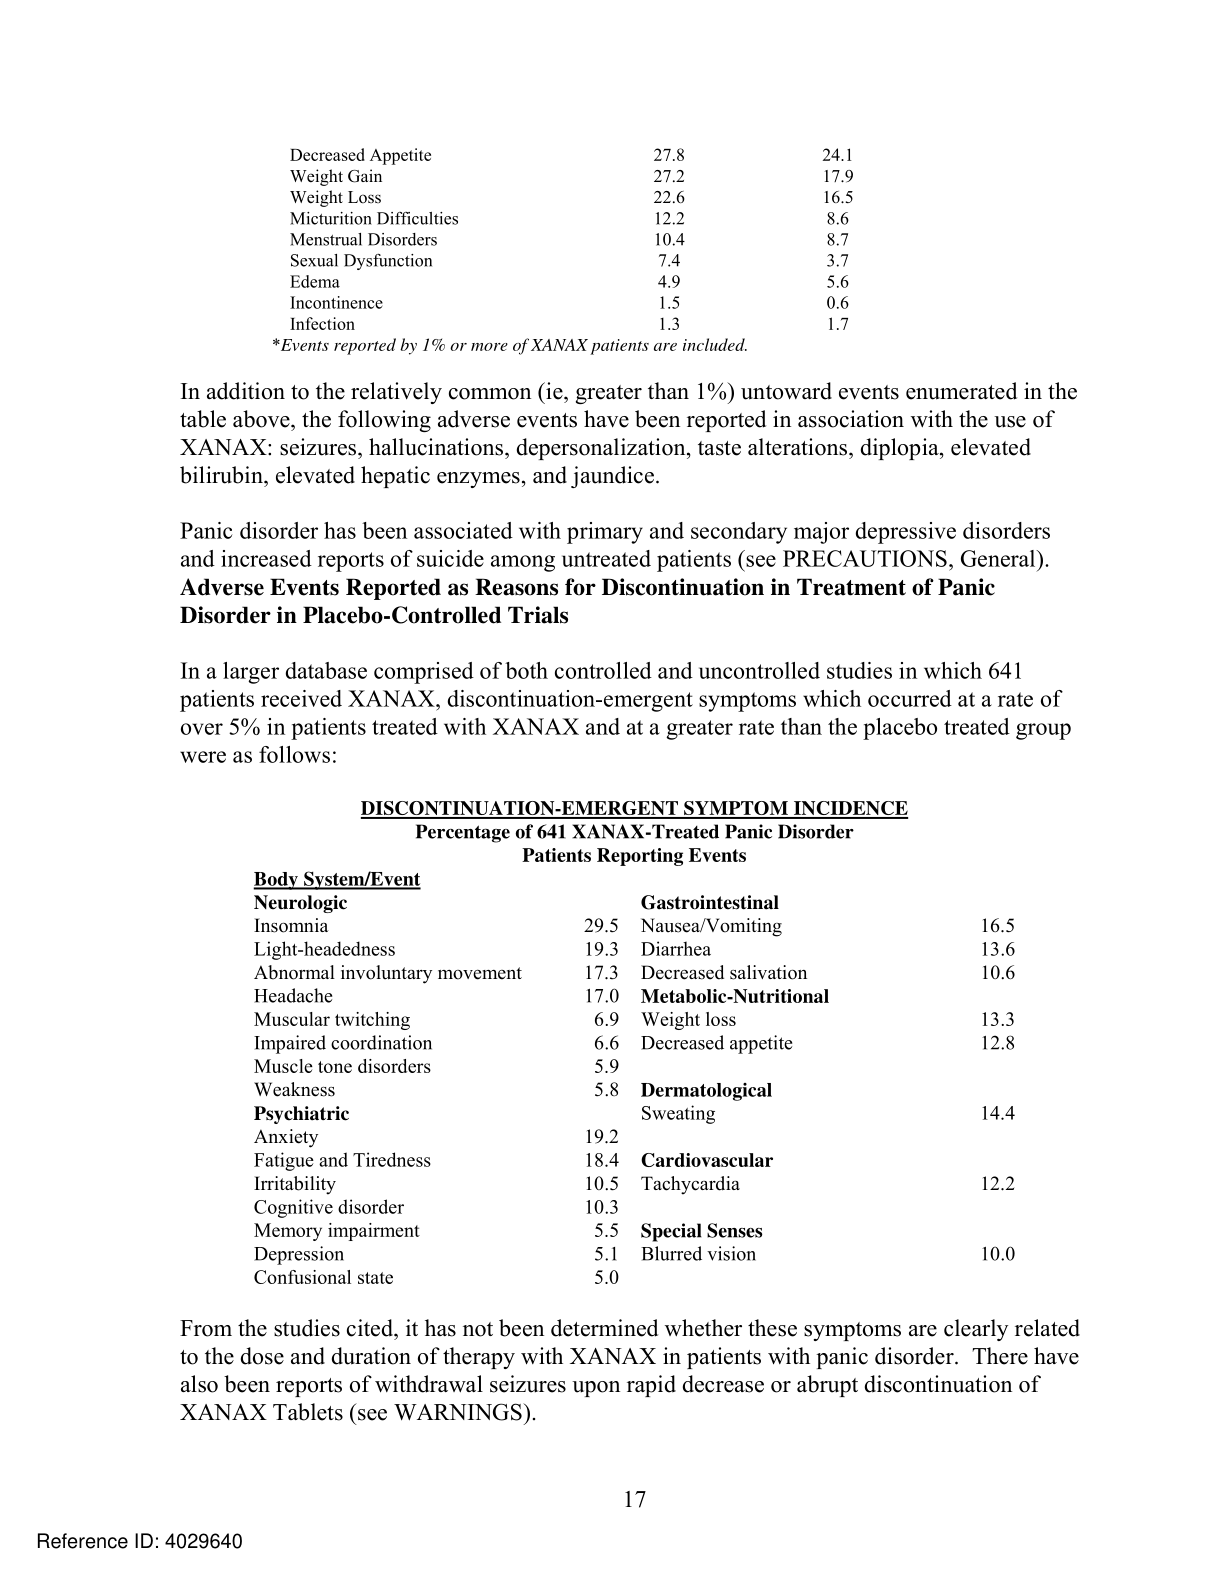nolines: (251, 870, 1023, 1288), (287, 141, 856, 334)
